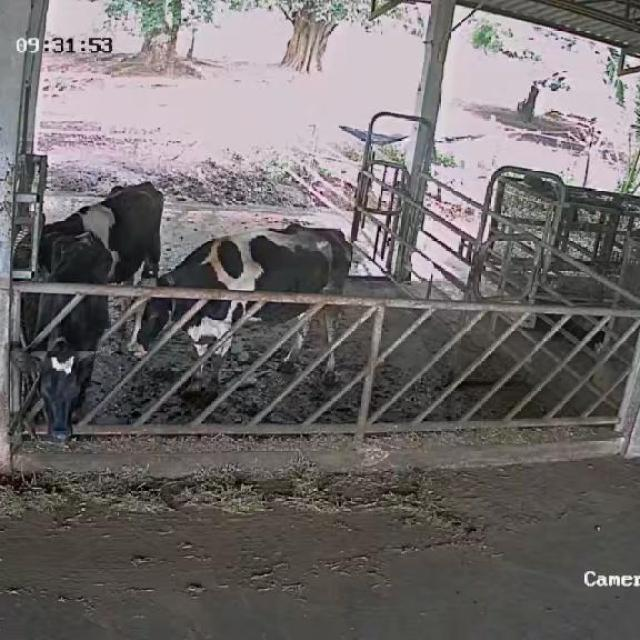drinking: (22, 181, 168, 360)
feeding: (22, 226, 126, 462)
standing: (130, 220, 359, 390)
